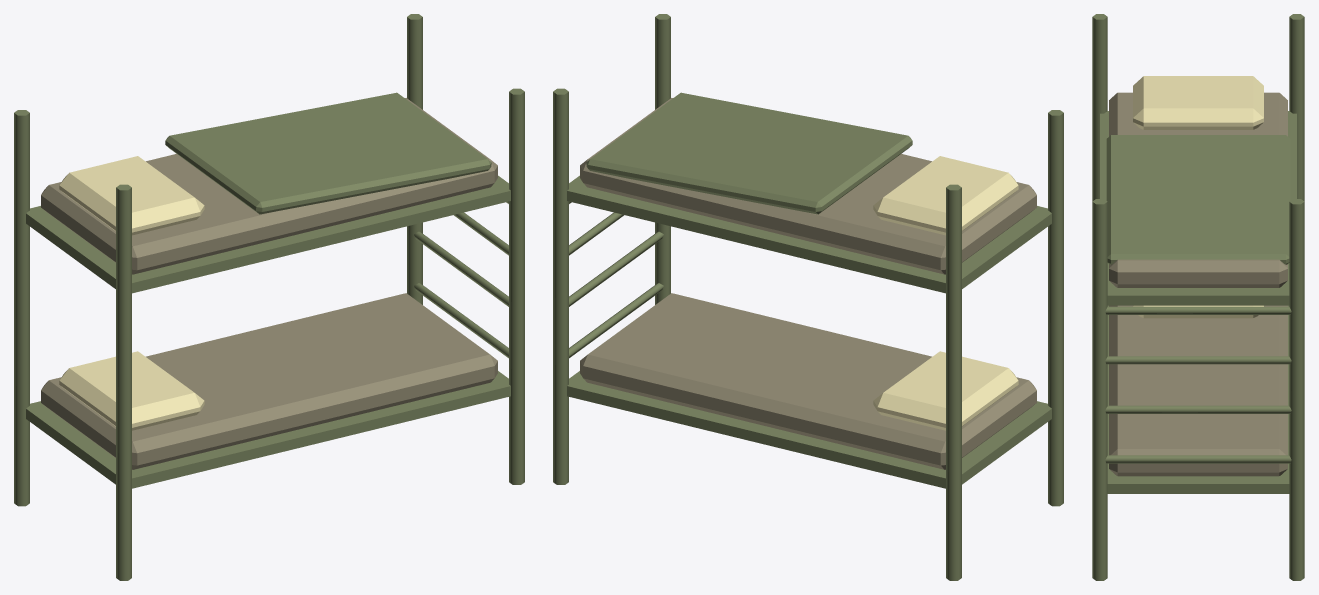
Rendered from bk_bunk.glb.
3 renders of one model, left to right at view 1: azimuth 30°, elevation 25°; view 2: azimuth 150°, elevation 25°; view 3: azimuth 270°, elevation 25°, orthographic. The views are drawn at different scales.
Visible parts, largest first — view 1: bk_bunk; view 2: bk_bunk; view 3: bk_bunk.
Part boxes in pixels (box(x1,y1,x2,y2)): bk_bunk: box(14, 14, 524, 580); bk_bunk: box(553, 14, 1063, 580); bk_bunk: box(1092, 14, 1304, 580).
Size of the model in its own units: 2.06 by 1.9 by 0.97.
